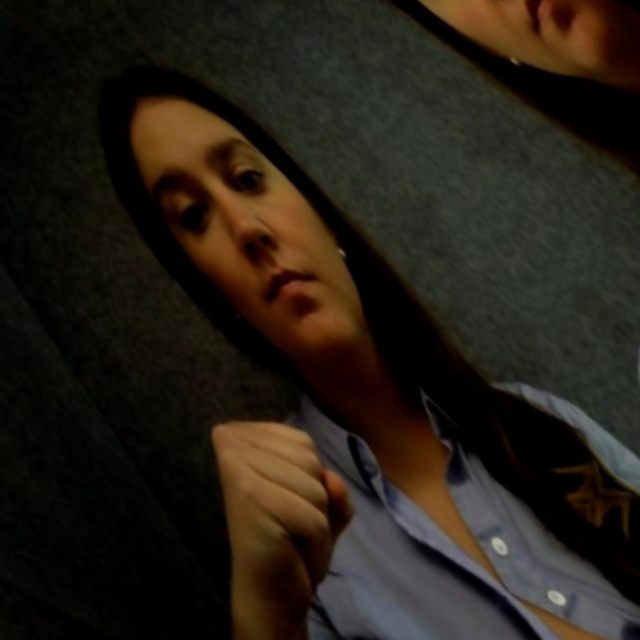Rock: (583, 0, 640, 155)
